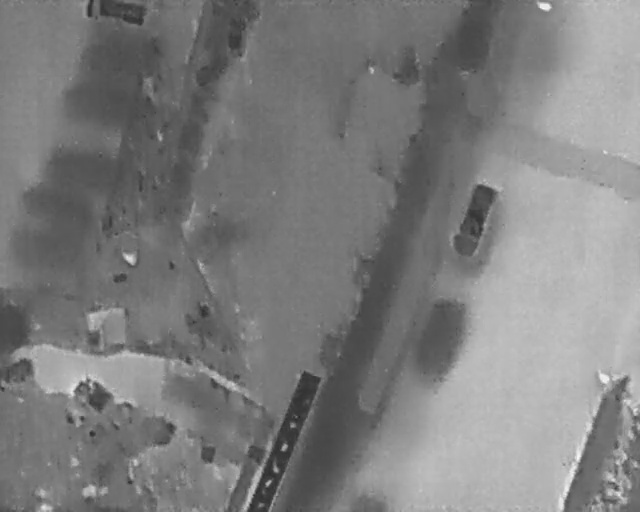Car: (448, 178, 500, 258), (81, 0, 144, 24)
